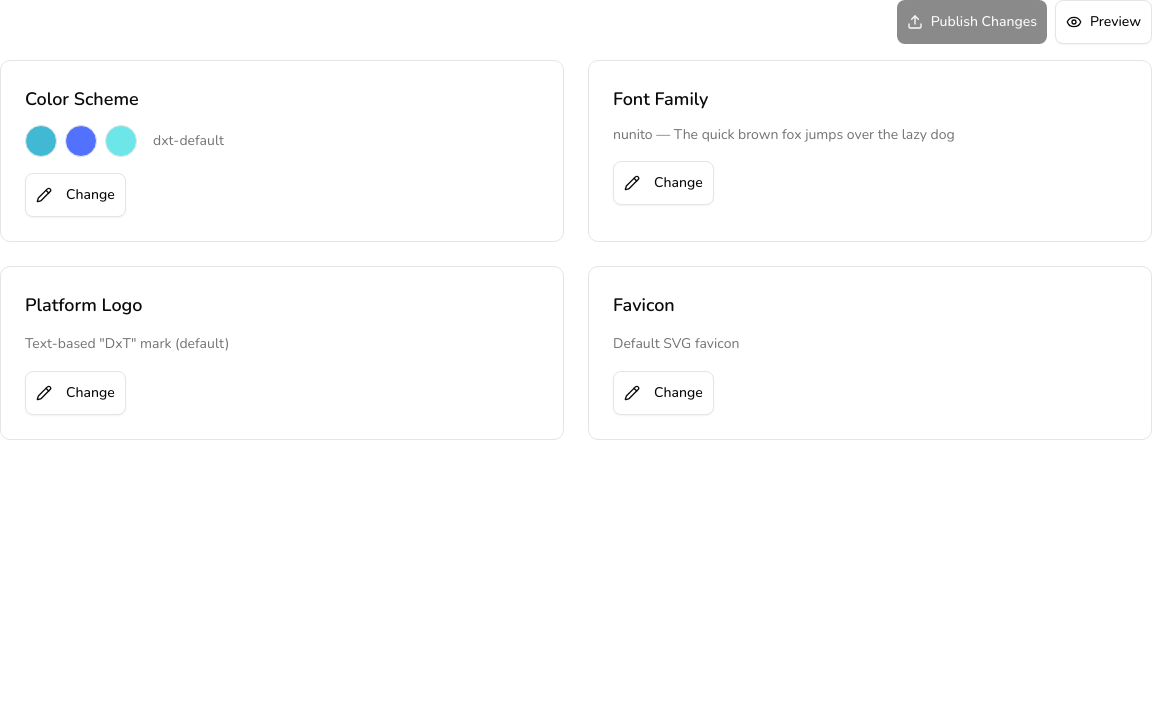
Test: BrandingManager › opens color scheme editor on Change click
Click the button with test id "edit-color-scheme-button" at (75, 195), box [25, 173, 126, 217]
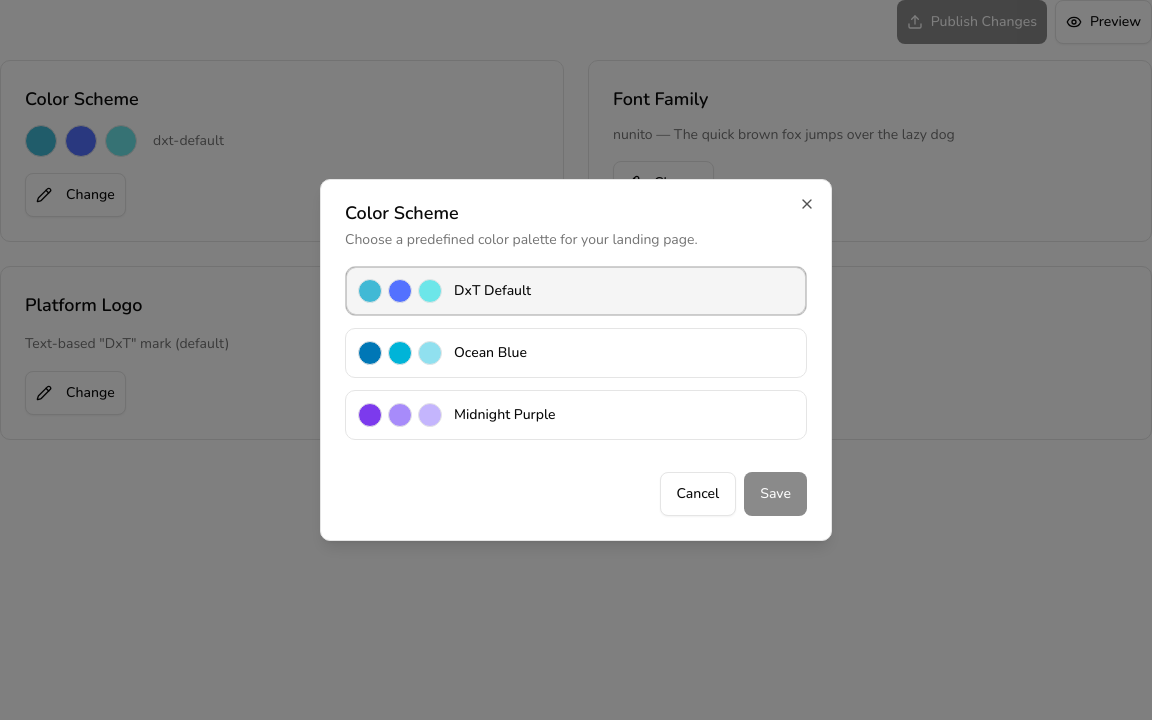
Result: the dialog with test id "color-scheme-editor" is shown at [320, 179, 832, 541]
